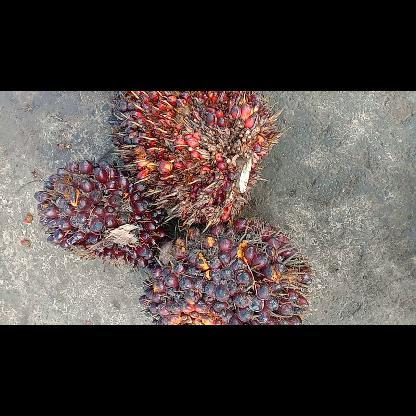Kurang masak: (138, 220, 312, 324), (35, 158, 165, 265)
Terlalu masak: (112, 91, 282, 223)
